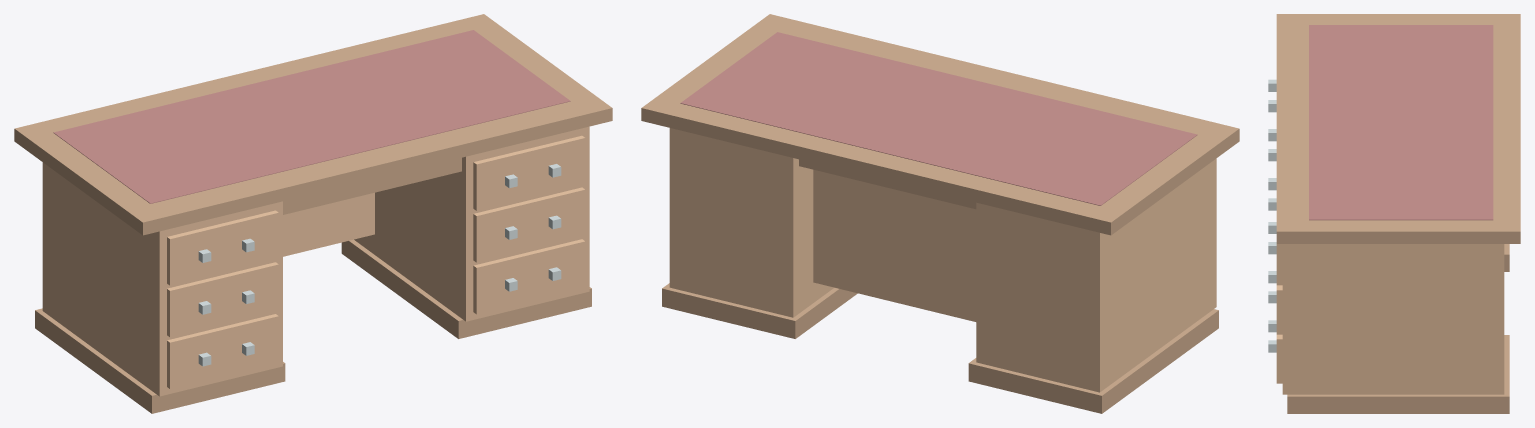
Rendered from deskExecutive.glb.
3 views of the same model, side by side, from view 1: azimuth 30°, elevation 25°; view 2: azimuth 150°, elevation 25°; view 3: azimuth 270°, elevation 25° (orthographic). The views are drawn at different scales.
Parts seen in each view (by area): view 1: deskExecutive; view 2: deskExecutive; view 3: deskExecutive.
Part boxes in pixels (box(x1,y1,x2,y2)): deskExecutive: box(14, 14, 612, 413); deskExecutive: box(641, 14, 1239, 413); deskExecutive: box(1268, 14, 1520, 413).
Size of the model in its own units: 0.95 by 0.386 by 0.465.
